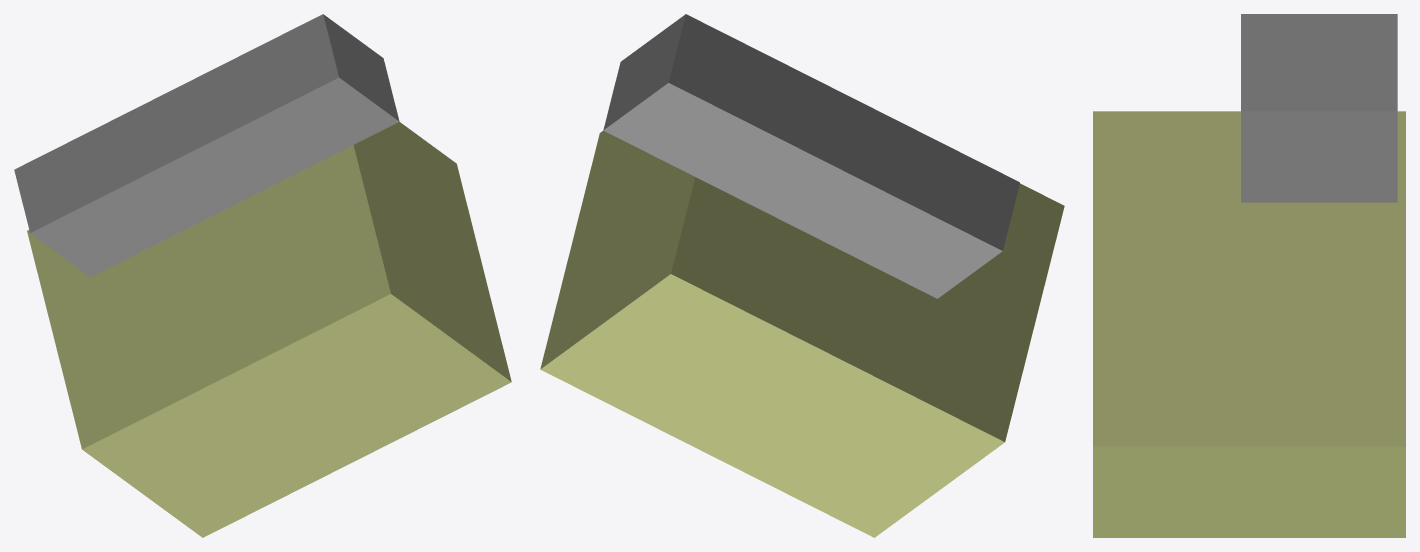
The picture shows the model from 3 angles, left to right: view 1: azimuth 30°, elevation 25°; view 2: azimuth 150°, elevation 25°; view 3: azimuth 270°, elevation 25°; orthographic projection. The views are drawn at different scales.
Visible parts, largest first — view 1: 0_1_3_2_2_2_0_2_2_1; view 2: 0_1_3_2_2_2_0_2_2_1; view 3: 0_1_3_2_2_2_0_2_2_1.
Part boxes in pixels (left/top/right/bottom): 0_1_3_2_2_2_0_2_2_1: left=14, top=14, right=511, bottom=537; 0_1_3_2_2_2_0_2_2_1: left=540, top=14, right=1064, bottom=537; 0_1_3_2_2_2_0_2_2_1: left=1093, top=14, right=1405, bottom=537.
Size of the model in its own units: 10.9 by 10.41 by 6.
